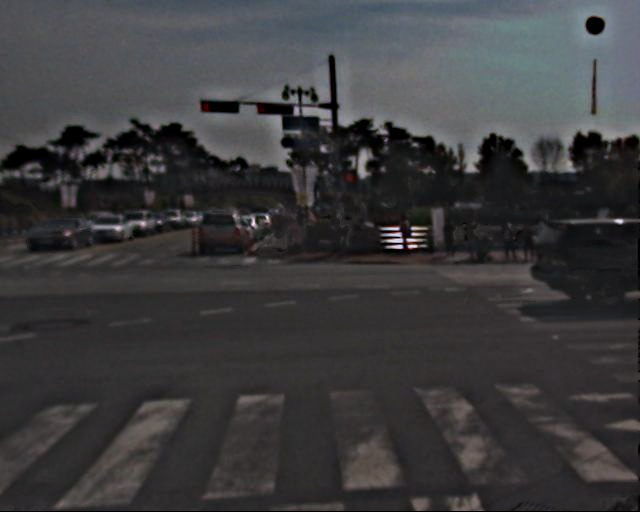person: (271, 210, 315, 252), (466, 214, 487, 265), (443, 218, 463, 266), (400, 212, 419, 259), (523, 220, 542, 266), (503, 221, 521, 266), (328, 215, 346, 259)
